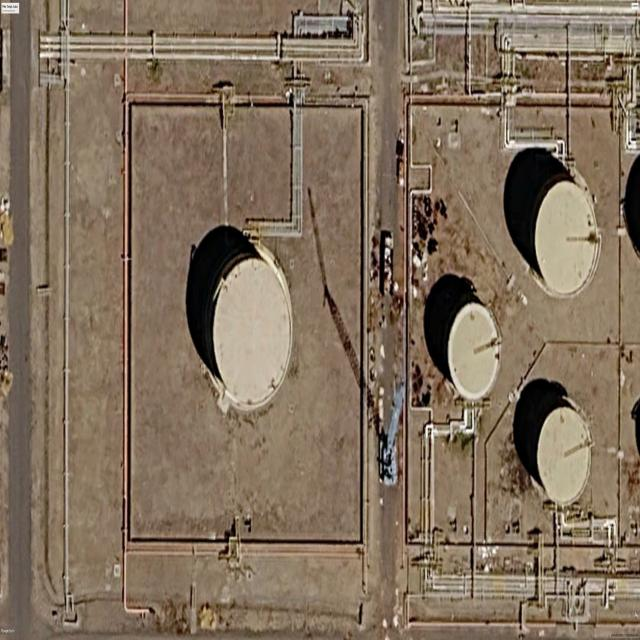Oil Rafinery: (212, 257, 292, 409), (534, 181, 600, 297), (534, 403, 592, 506), (447, 302, 501, 400)
